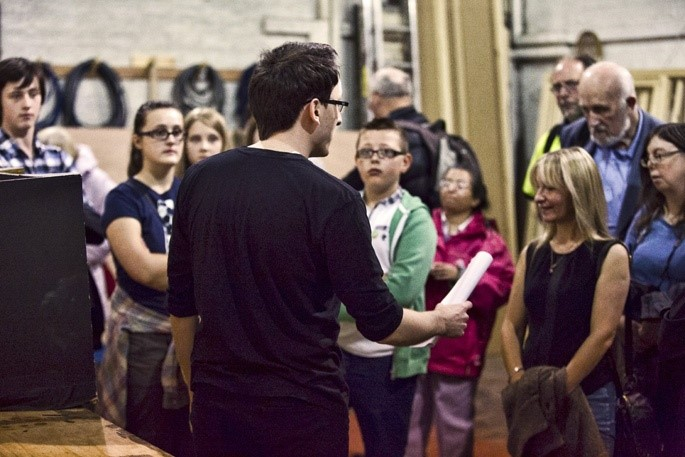face_no_mask: (530, 149, 603, 224), (580, 59, 636, 144), (134, 99, 185, 173), (351, 122, 404, 193), (1, 59, 44, 128), (642, 130, 685, 198), (183, 104, 229, 165), (438, 166, 474, 211)
